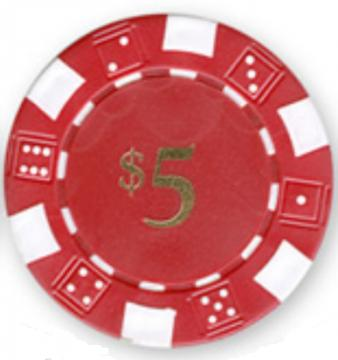chip-red: (4, 14, 333, 347)
